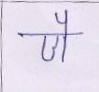ai_matra: (55, 10, 73, 33)
